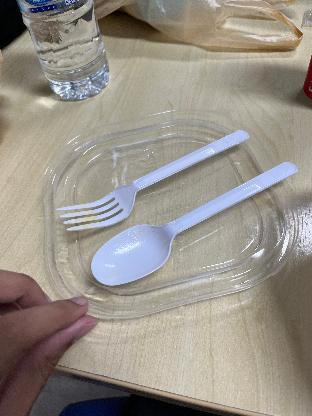Others: (78, 158, 296, 284), (52, 116, 250, 233)
Plastic Bottle: (14, 0, 112, 104)
